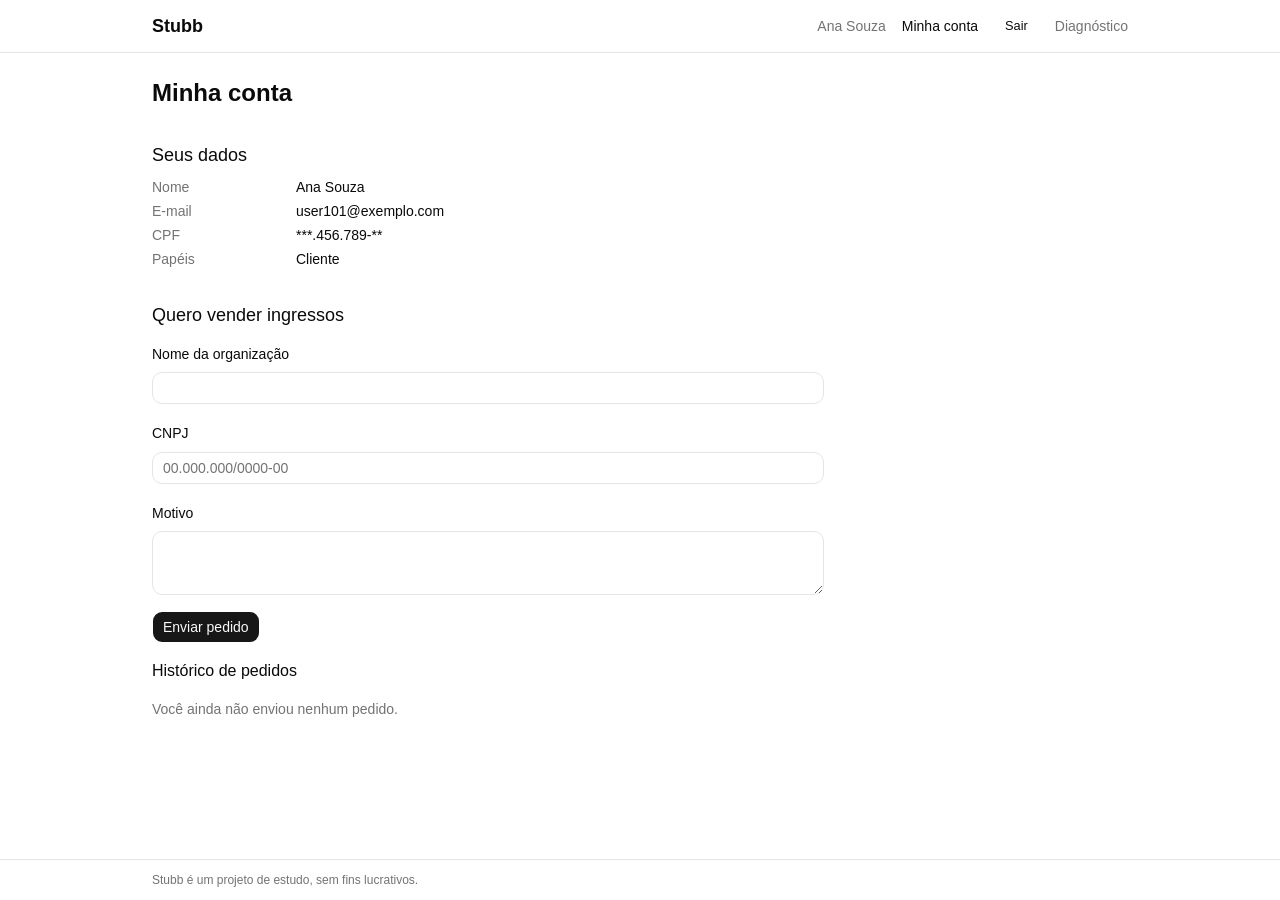
Test: AccountPage › customer sem pedido vê o formulário e envia nome, CNPJ normalizado e motivo
The width and height of the screenshot is (1280, 900).
Type "Produtora Aurora" into the field labelled "Nome da organização" at coordinates (488, 388), box x1=152 y1=372 x2=824 y2=404
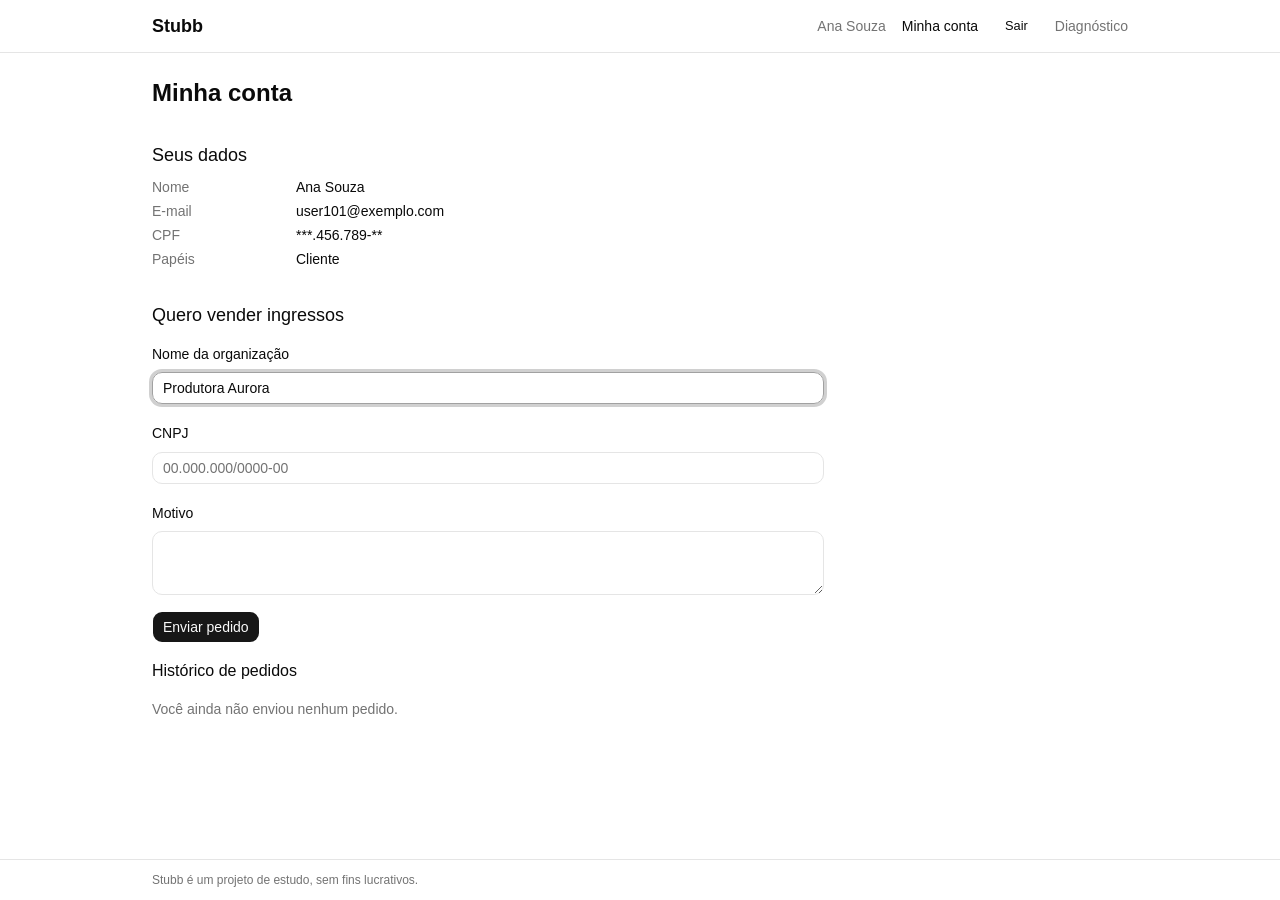
Type "11.222.333/0001-81" into the field labelled "CNPJ" at coordinates (488, 468), box x1=152 y1=452 x2=824 y2=484
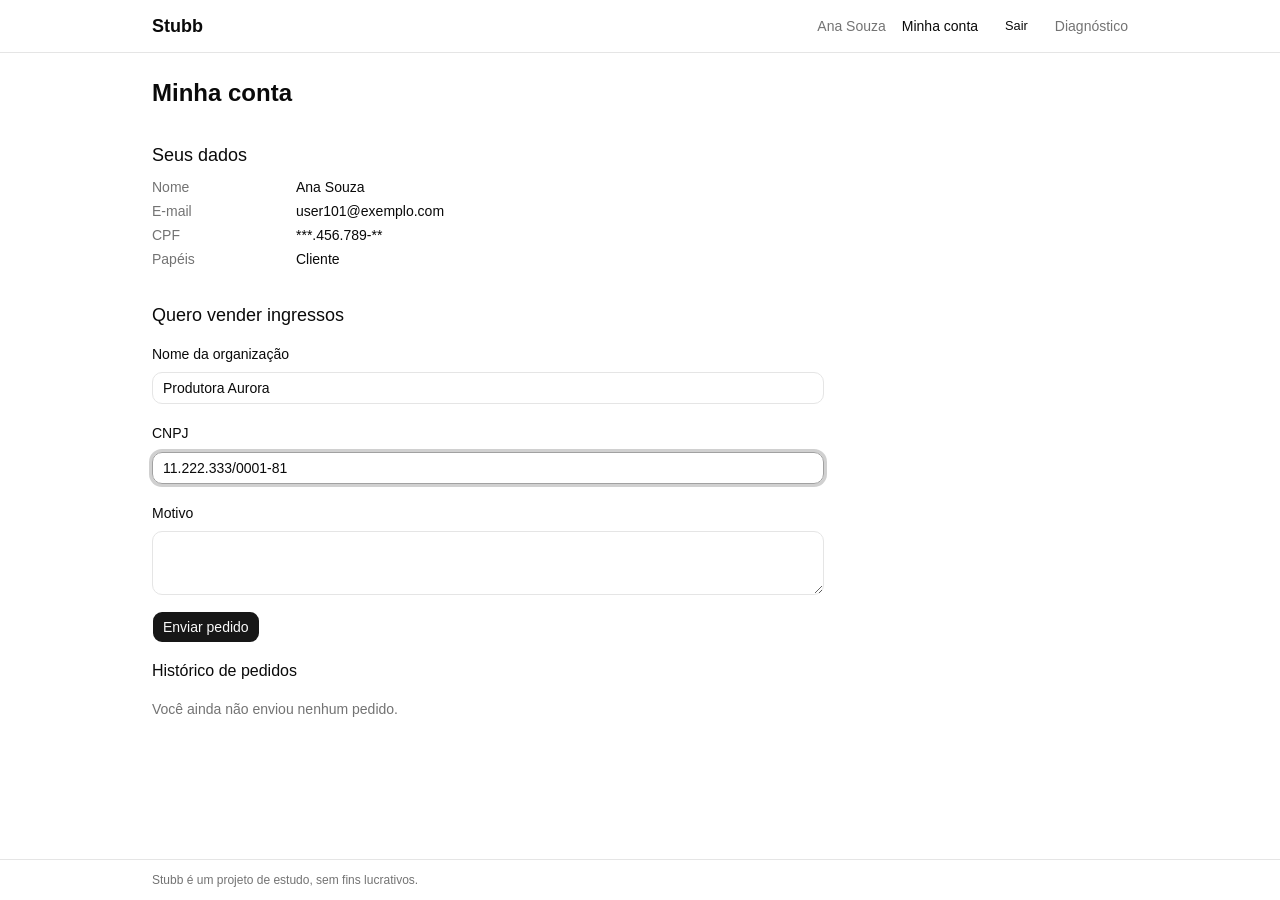
Type "Quero vender ingressos de shows" into the text box labelled "Motivo" at coordinates (488, 563), box x1=152 y1=531 x2=824 y2=595
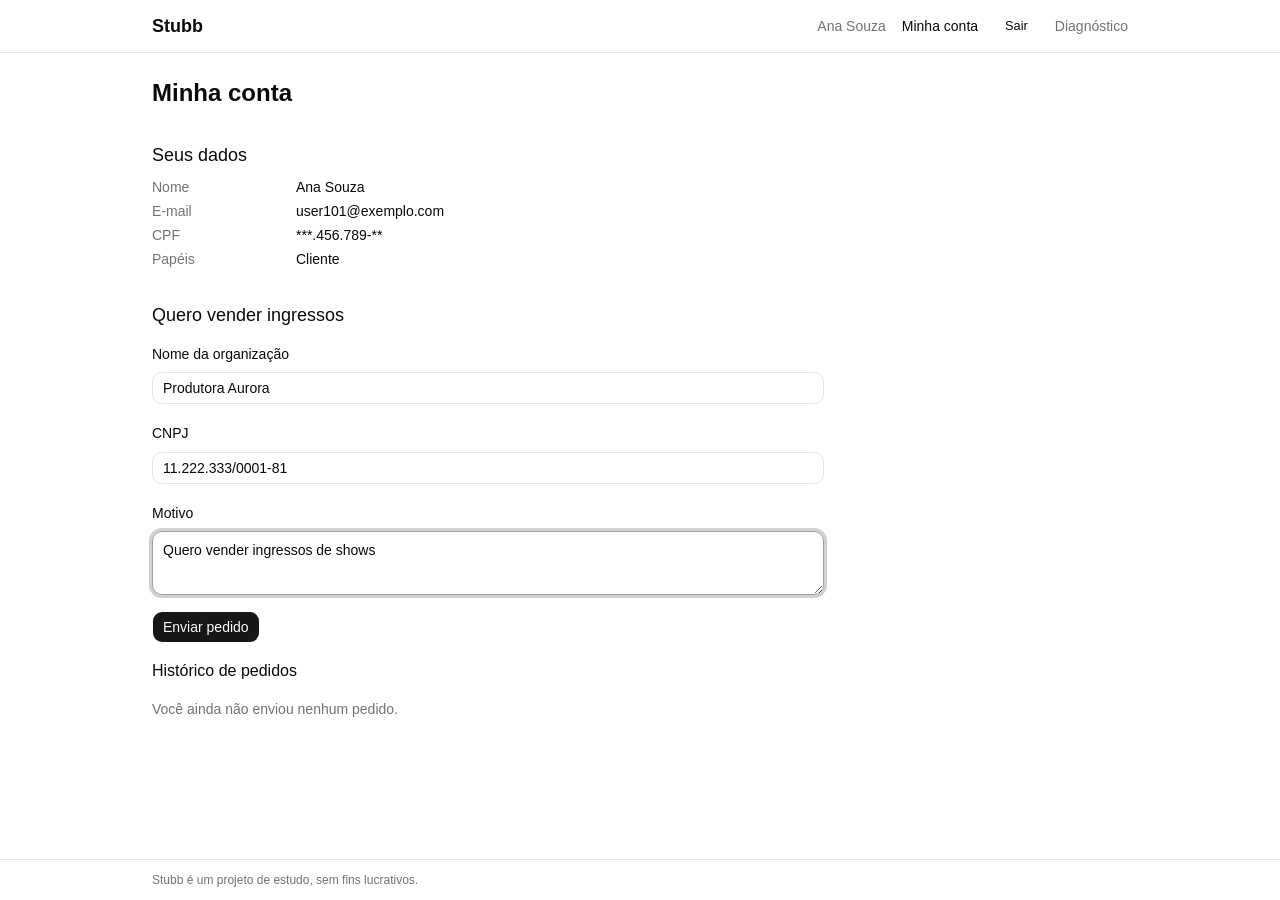
Click the button "Enviar pedido" at coordinates (206, 627), box x1=152 y1=611 x2=260 y2=643
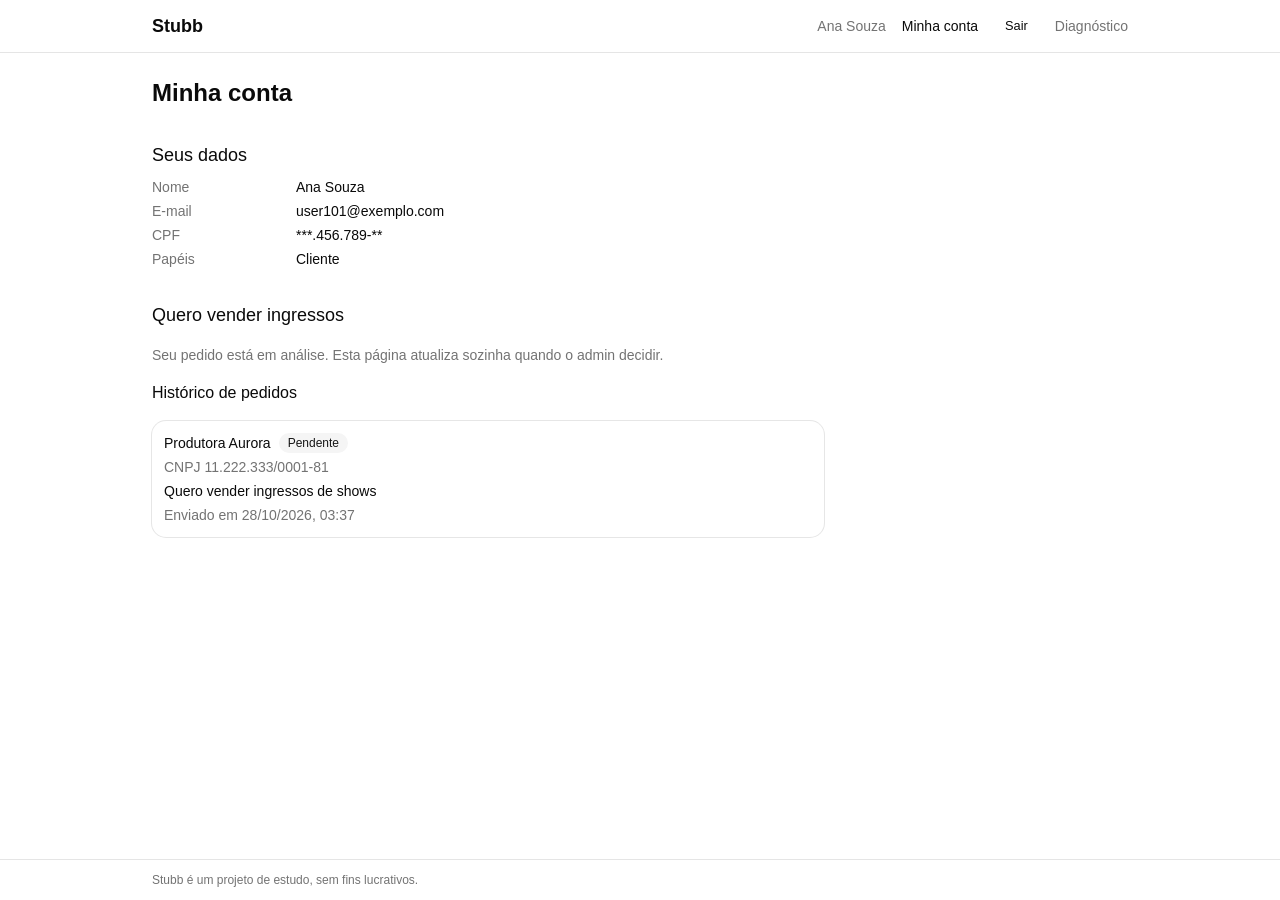
Now the text "Pendente" is shown, box x1=279 y1=433 x2=348 y2=453
Now the button "Enviar pedido" is gone
